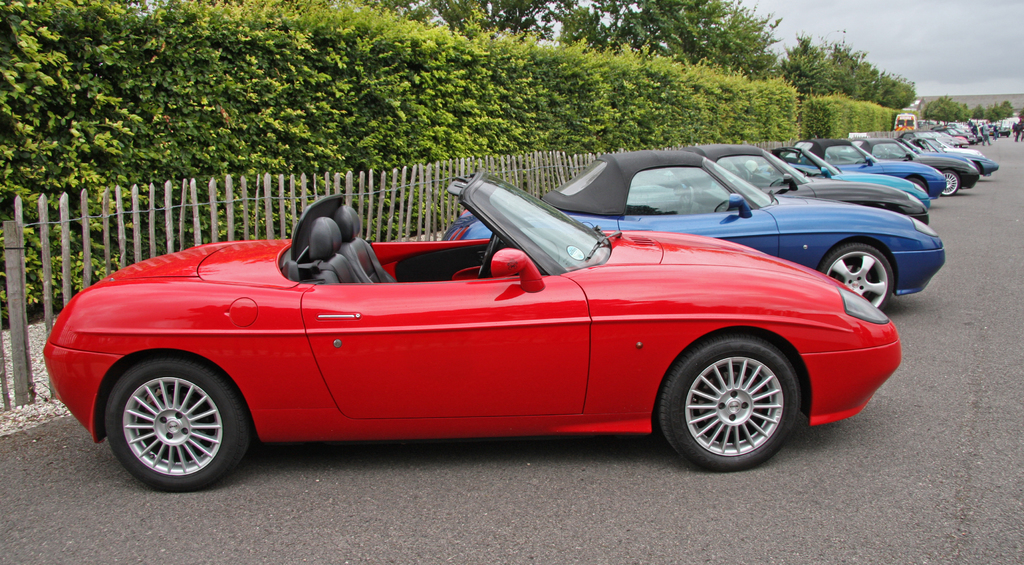Car: (50, 171, 918, 489), (440, 122, 1011, 312)
